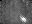person: (21, 16, 27, 22)
